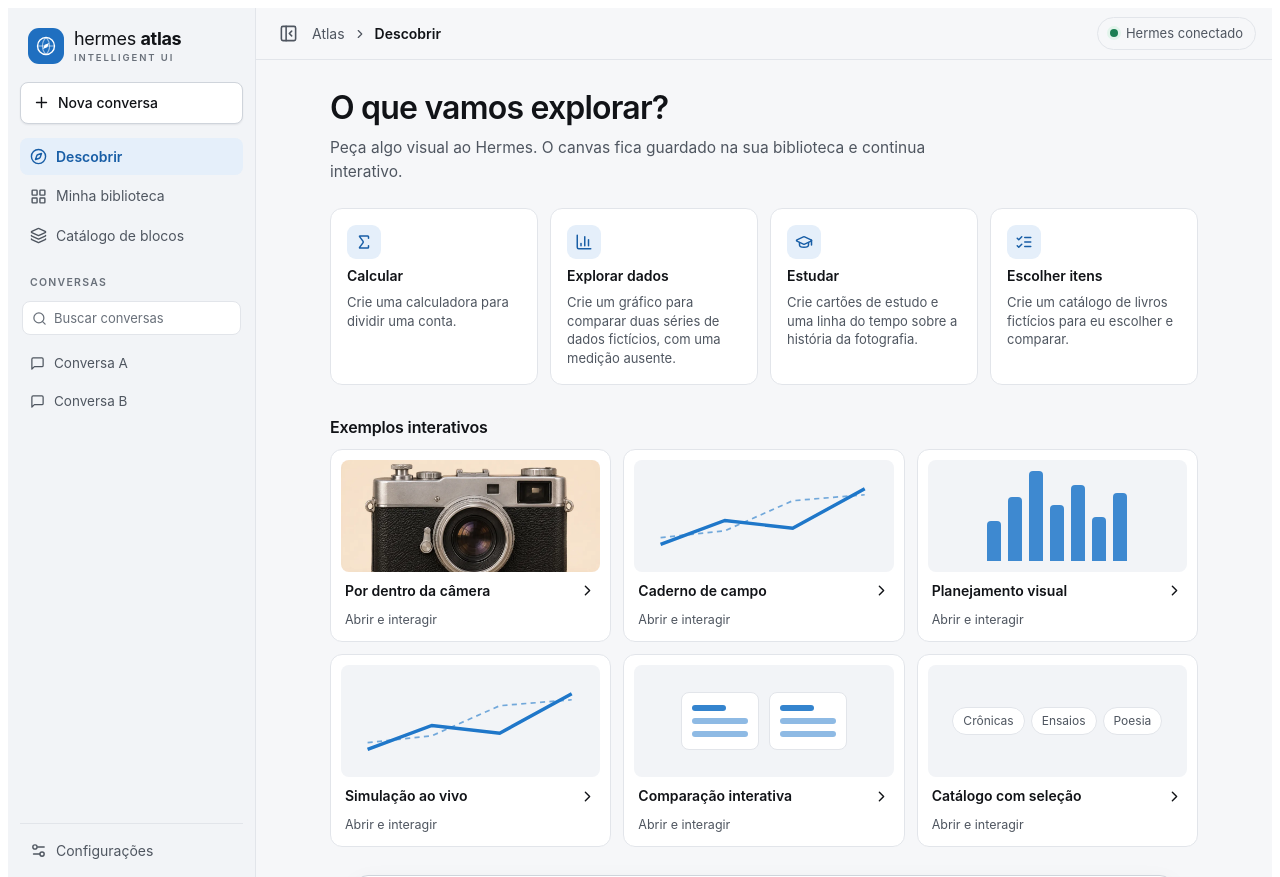
it: renames a conversation in place, without the browser's prompt (Hermes Desktop has none)
This screenshot has width=1280, height=877.
Later steps or results of the test are not shown.
Step 1. Click the button "Conversa A" → coordinates (132, 363), box [20, 345, 243, 382]
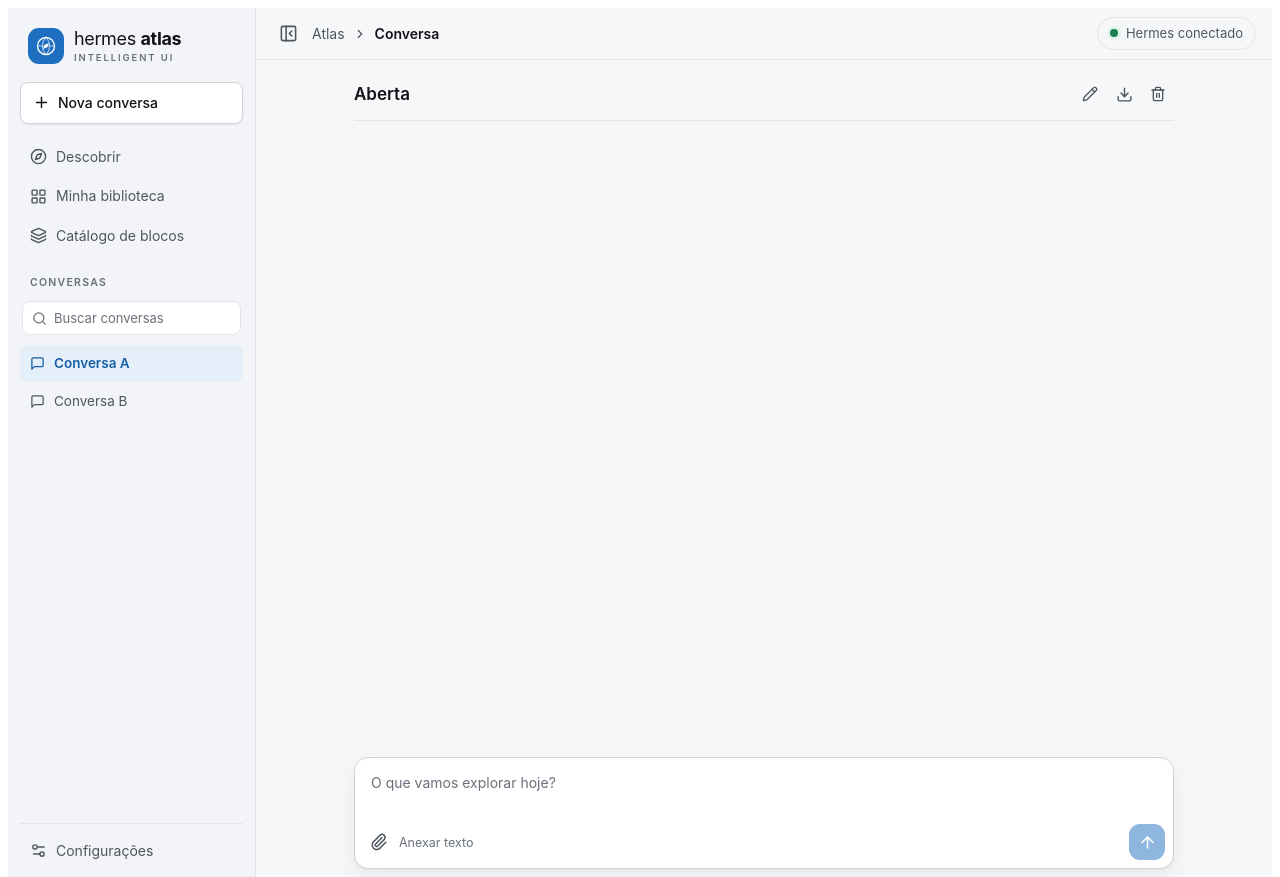
Step 2. Click the button named "Renomear conversa" → coordinates (1090, 94), box [1074, 78, 1106, 110]
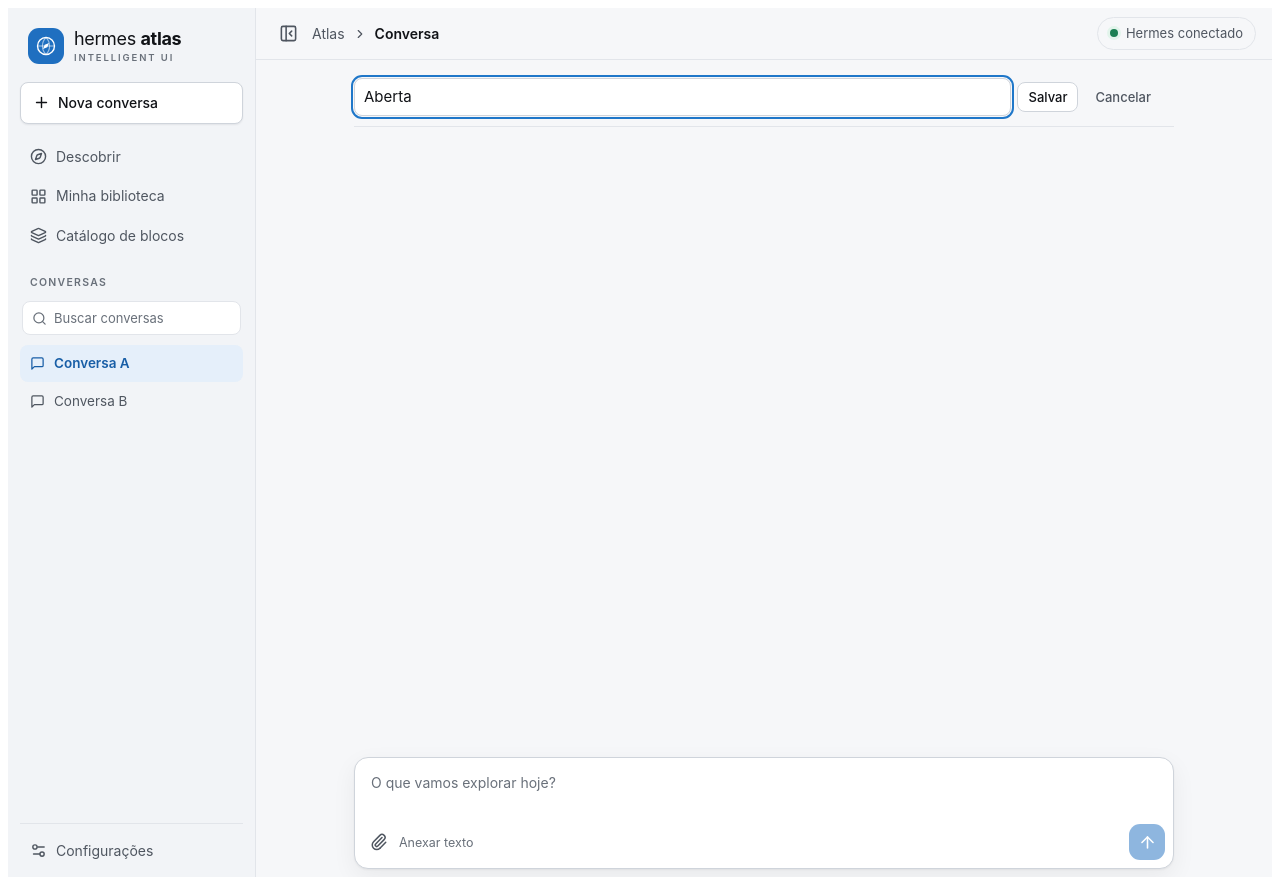
Expected: the field named "Nome da conversa" holds "Aberta"
Step 3. Replace the text in the field named "Nome da conversa" with "  Viagem a Lisboa  " → coordinates (683, 97), box [354, 78, 1012, 116]
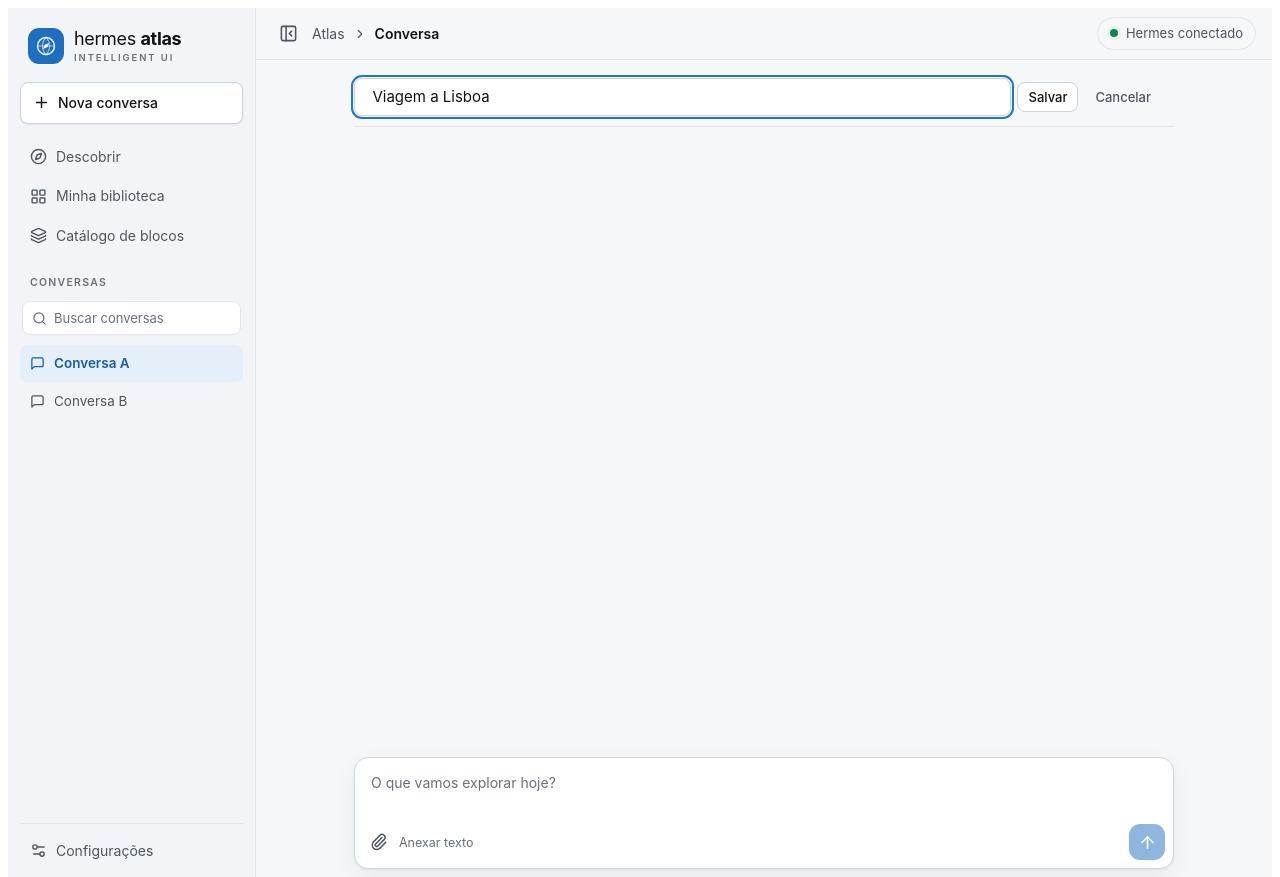
Step 4. Submit the form named "Nome da conversa", box [354, 78, 1162, 116]
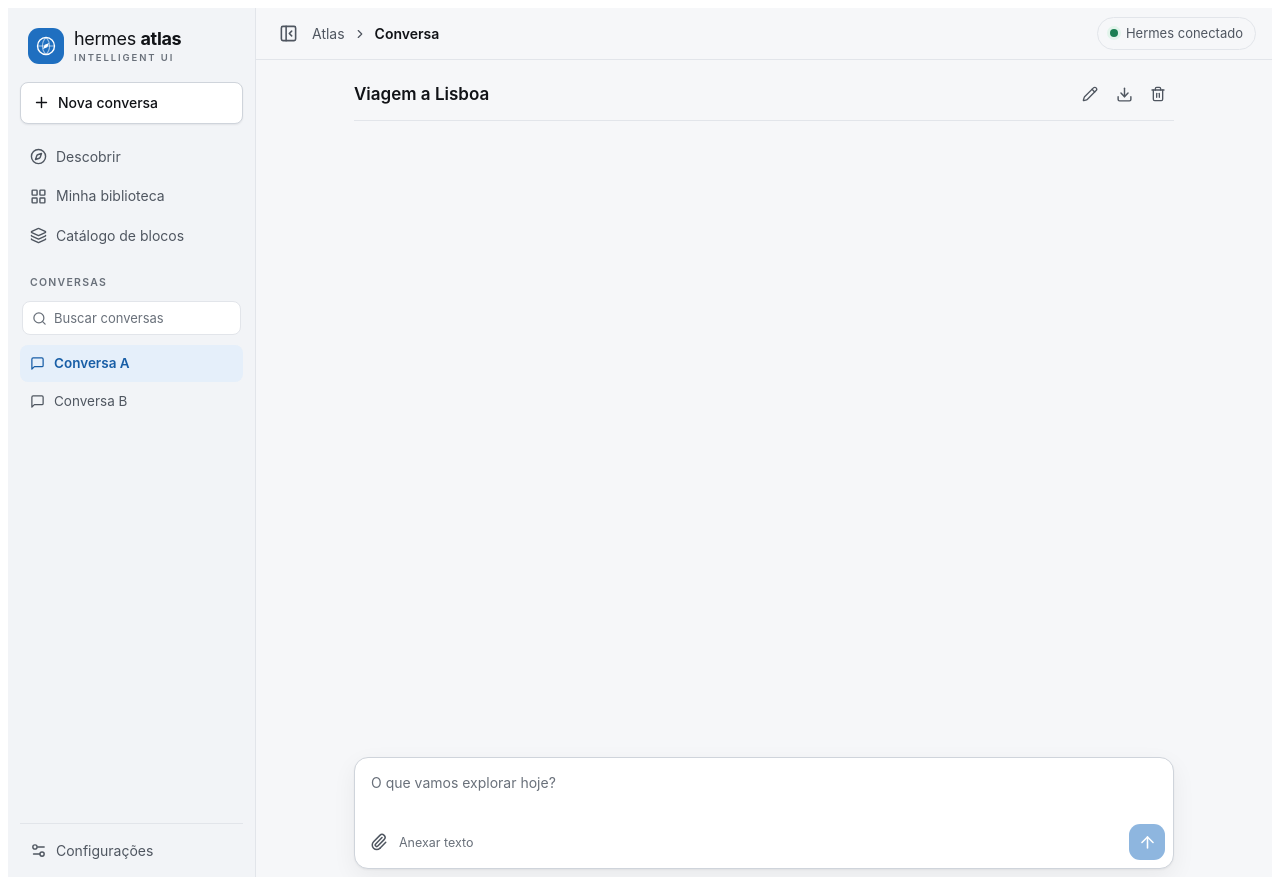
Expected: the text "Viagem a Lisboa" is shown, [354, 81, 489, 107]
